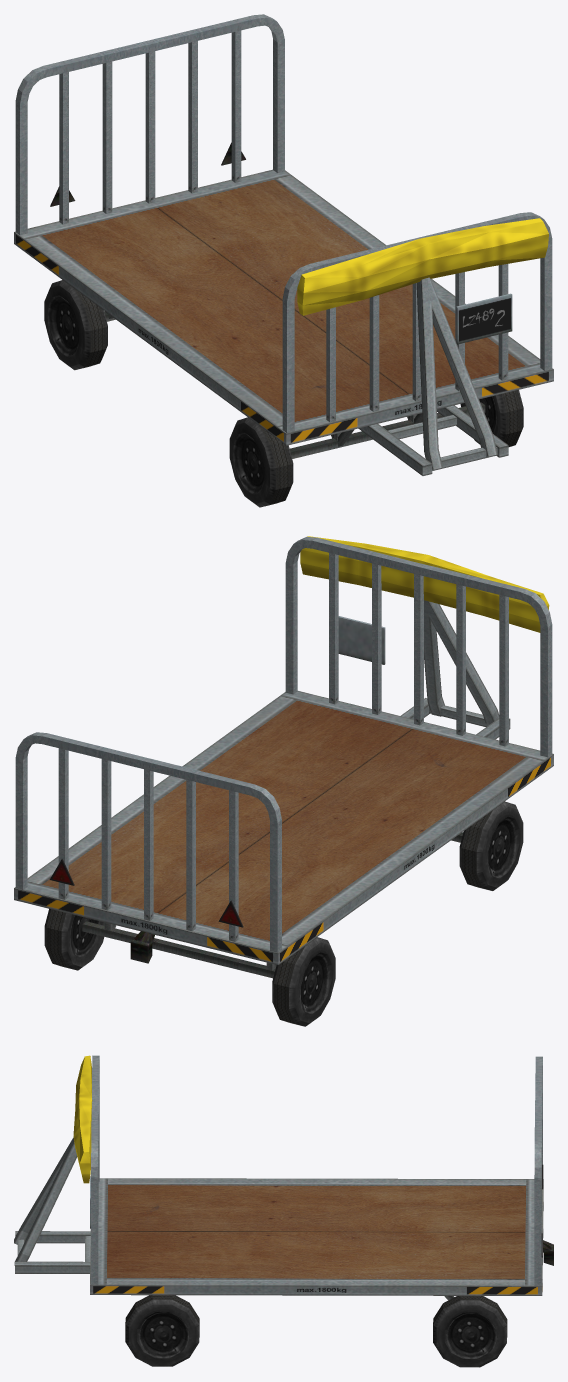
File: luggage-cart-HD.obj
3 renders of one model, top to bottom at view 1: azimuth 30°, elevation 25°; view 2: azimuth 150°, elevation 25°; view 3: azimuth 270°, elevation 25°, orthographic. The views are drawn at different scales.
Visible parts, largest first — view 1: front_01; view 2: front_01; view 3: front_01.
Part boxes in pixels (box(x1,y1,x2,y2)): front_01: box(14, 14, 553, 507); front_01: box(14, 536, 553, 1026); front_01: box(14, 1055, 553, 1367).
Size of the model in its own units: 1.25 by 1.18 by 2.64.
1 material, 1 textured.
